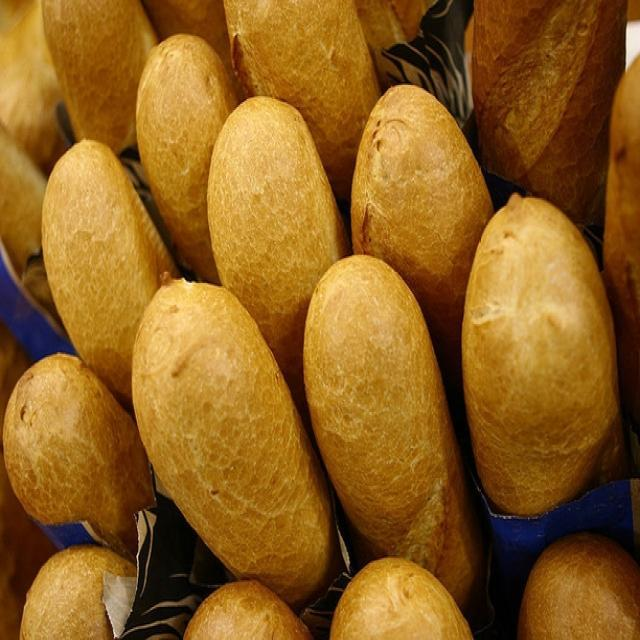Bread: (2, 3, 482, 424)
